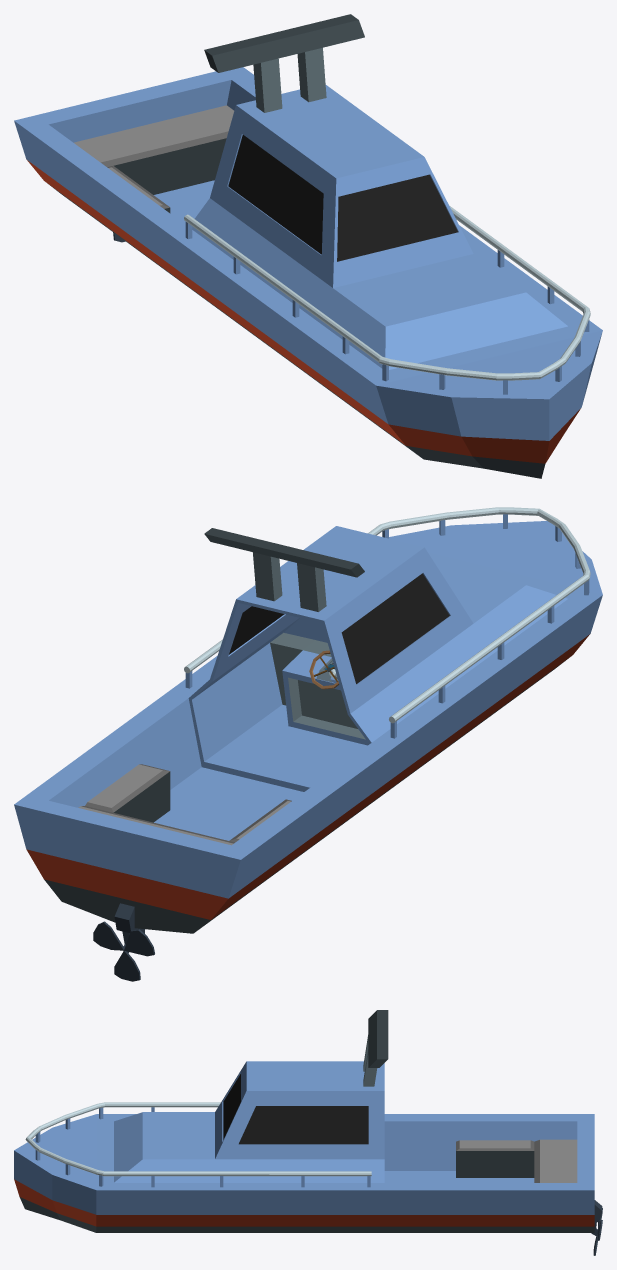
The model's file is boat.glb.
3 views of the same model, one above another, from view 1: azimuth 30°, elevation 25°; view 2: azimuth 150°, elevation 25°; view 3: azimuth 270°, elevation 25° (orthographic). The views are drawn at different scales.
Visible parts, largest first — view 1: Scout_Boat; view 2: Scout_Boat; view 3: Scout_Boat.
Part boxes in pixels (left/top/right/bottom): Scout_Boat: left=14, top=14, right=602, bottom=478; Scout_Boat: left=14, top=507, right=602, bottom=981; Scout_Boat: left=14, top=1010, right=602, bottom=1255.
Size of the model in its own units: 2.23 by 2.99 by 7.28.
Materials: 1 (1 with a texture image).
